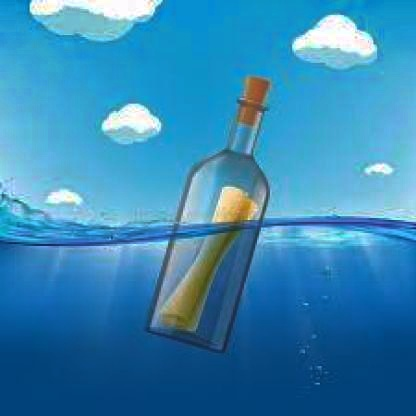gbottle: (148, 76, 272, 355)
